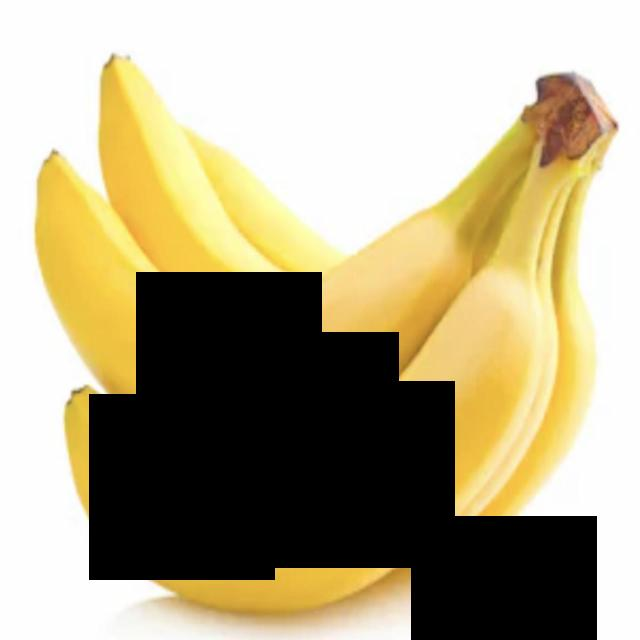banana: (26, 82, 588, 624), (0, 123, 552, 438)
